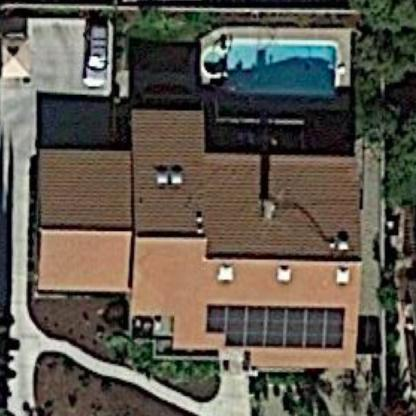car: (83, 13, 114, 90)
solar_panel: (205, 291, 349, 361)
swimming_pool: (185, 25, 353, 123)
